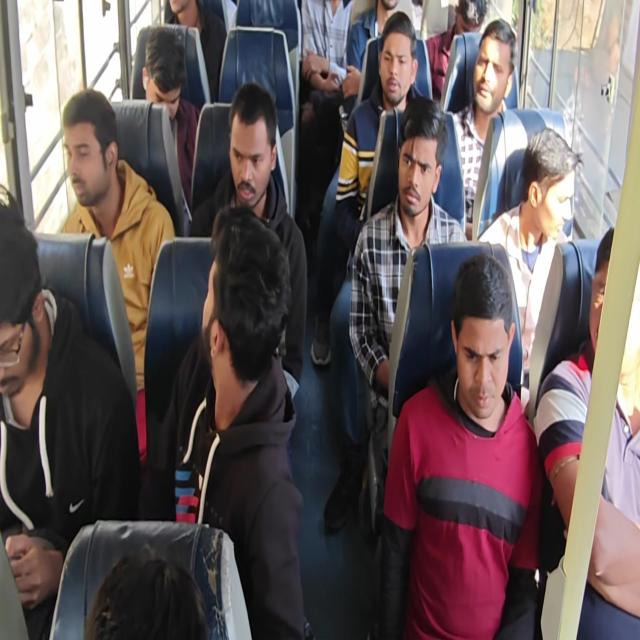person: (193, 218, 275, 422), (443, 260, 510, 442), (0, 217, 57, 410), (584, 212, 640, 388), (44, 82, 118, 208), (388, 111, 443, 232), (512, 127, 578, 227), (130, 21, 190, 117), (230, 89, 277, 211), (467, 37, 519, 115), (376, 31, 418, 100), (440, 0, 482, 56), (156, 0, 201, 22), (368, 0, 404, 24)
